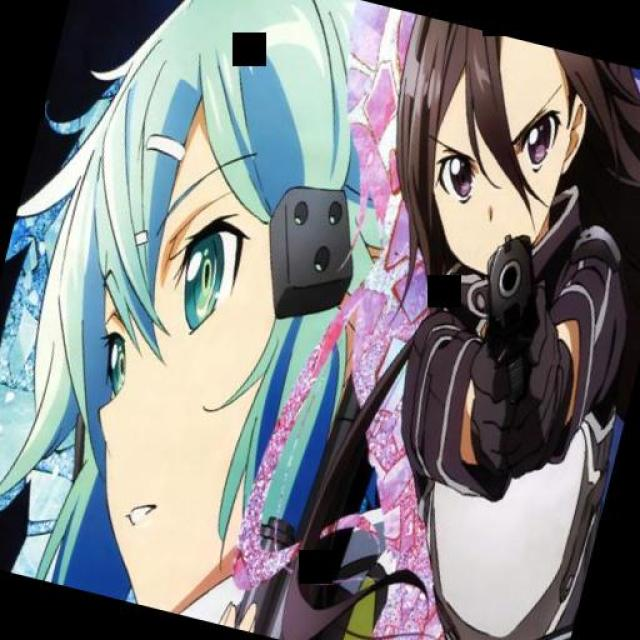gun: (429, 210, 590, 471)
